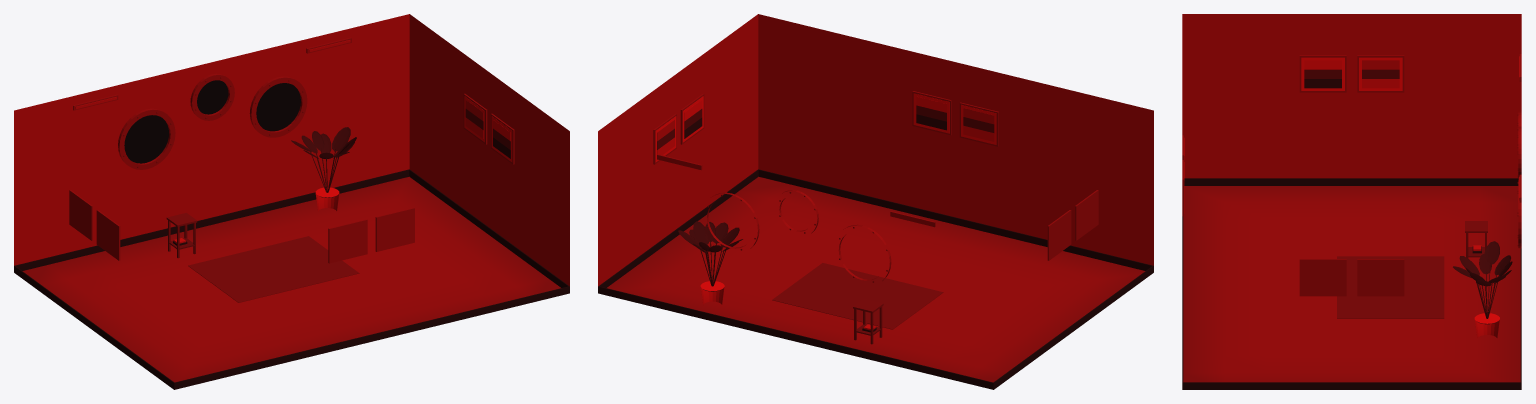
File: room_space.glb
3 views of the same model, side by side, from view 1: azimuth 30°, elevation 25°; view 2: azimuth 150°, elevation 25°; view 3: azimuth 270°, elevation 25° (orthographic). The views are drawn at different scales.
Parts seen in each view (by area): view 1: Shell, TankRug, CenterArtF, CenterPortR, CenterPortL, RightPlant, CenterArtRW, CenterArtLW, CenterPortC, LeftTable; view 2: Shell, TankRug, CenterArtF, RightPlant, CenterArtLW, CenterArtRW, LeftTable; view 3: Shell, TankRug, CenterArtLW, CenterArtRW, RightPlant, LeftTable.
Boxes of the visible parts, x1=… form: Shell: x1=14, y1=14, x2=569, y2=389; TankRug: x1=188, y1=236, x2=359, y2=302; CenterArtF: x1=328, y1=207, x2=414, y2=263; CenterPortR: x1=249, y1=76, x2=307, y2=137; CenterPortL: x1=118, y1=108, x2=175, y2=169; RightPlant: x1=291, y1=127, x2=356, y2=210; CenterArtRW: x1=463, y1=93, x2=514, y2=164; CenterArtLW: x1=69, y1=190, x2=120, y2=260; CenterPortC: x1=190, y1=73, x2=234, y2=120; LeftTable: x1=166, y1=213, x2=197, y2=258; Shell: x1=598, y1=14, x2=1153, y2=389; TankRug: x1=772, y1=263, x2=943, y2=329; CenterArtF: x1=912, y1=91, x2=998, y2=146; RightPlant: x1=678, y1=221, x2=742, y2=305; CenterArtLW: x1=1047, y1=190, x2=1098, y2=260; CenterArtRW: x1=653, y1=93, x2=704, y2=164; LeftTable: x1=853, y1=299, x2=883, y2=344; Shell: x1=1182, y1=14, x2=1521, y2=389; TankRug: x1=1337, y1=256, x2=1444, y2=318; CenterArtLW: x1=1299, y1=55, x2=1404, y2=92; CenterArtRW: x1=1299, y1=259, x2=1404, y2=296; RightPlant: x1=1453, y1=241, x2=1512, y2=337; LeftTable: x1=1465, y1=221, x2=1487, y2=258.
Bounding box in the file's own units: 720 × 282 × 505.
